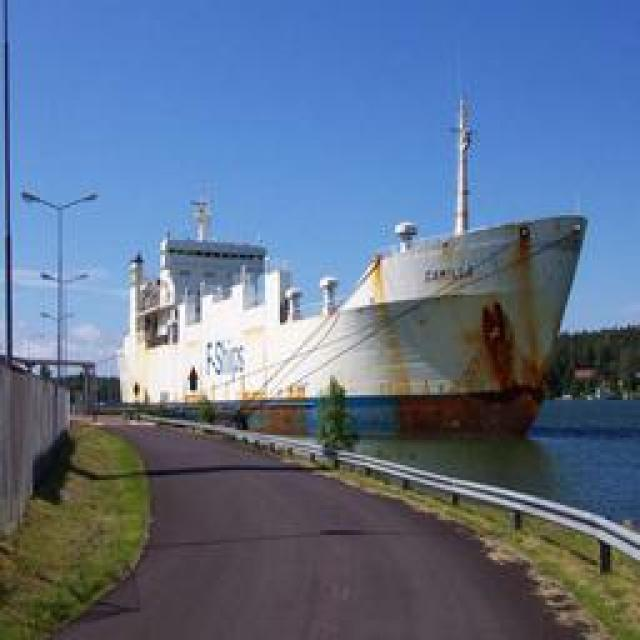CIV_Ship: (134, 146, 592, 436)
